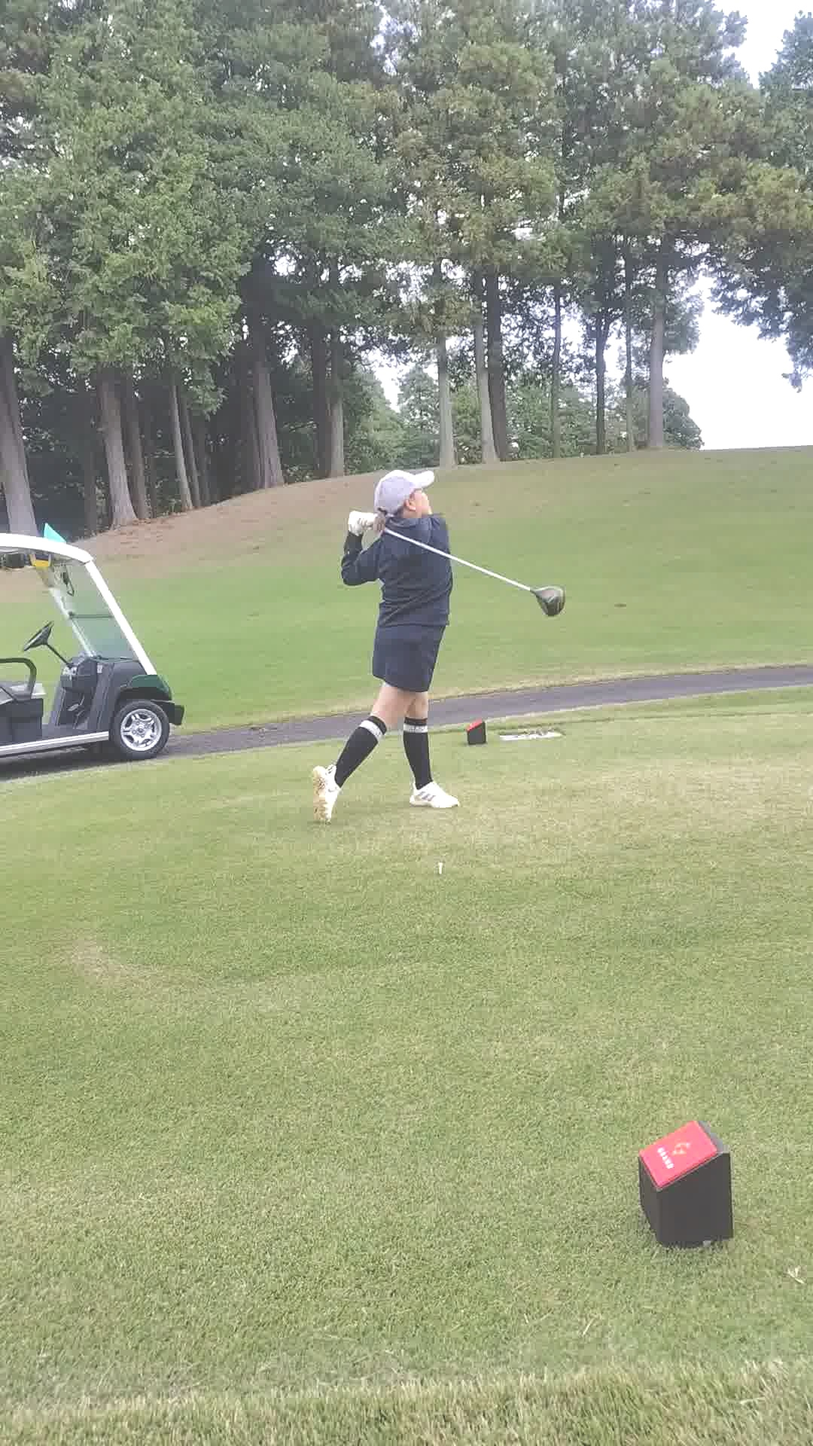clubhead: (505, 554, 613, 692)
